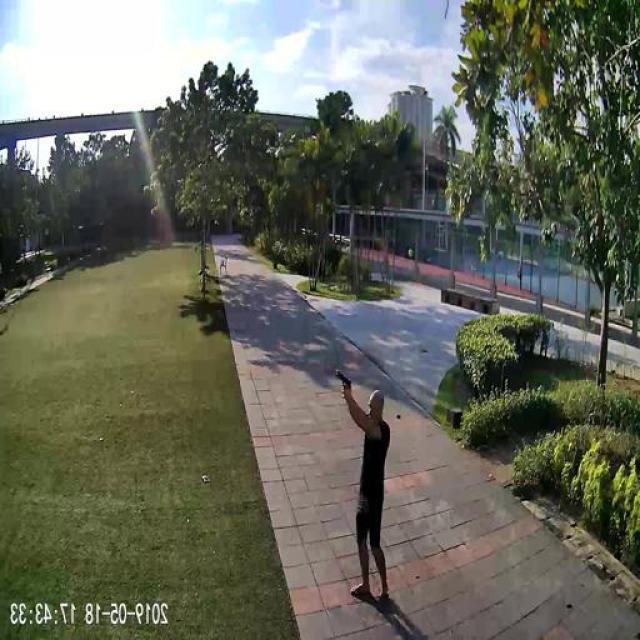Gun: (336, 365, 354, 386)
